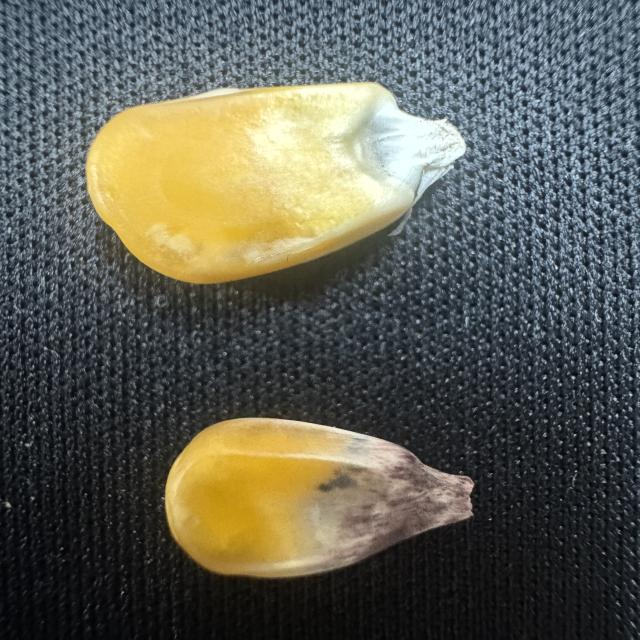Bad-Seed: (147, 408, 490, 594)
Good-Seed: (85, 70, 479, 312)
